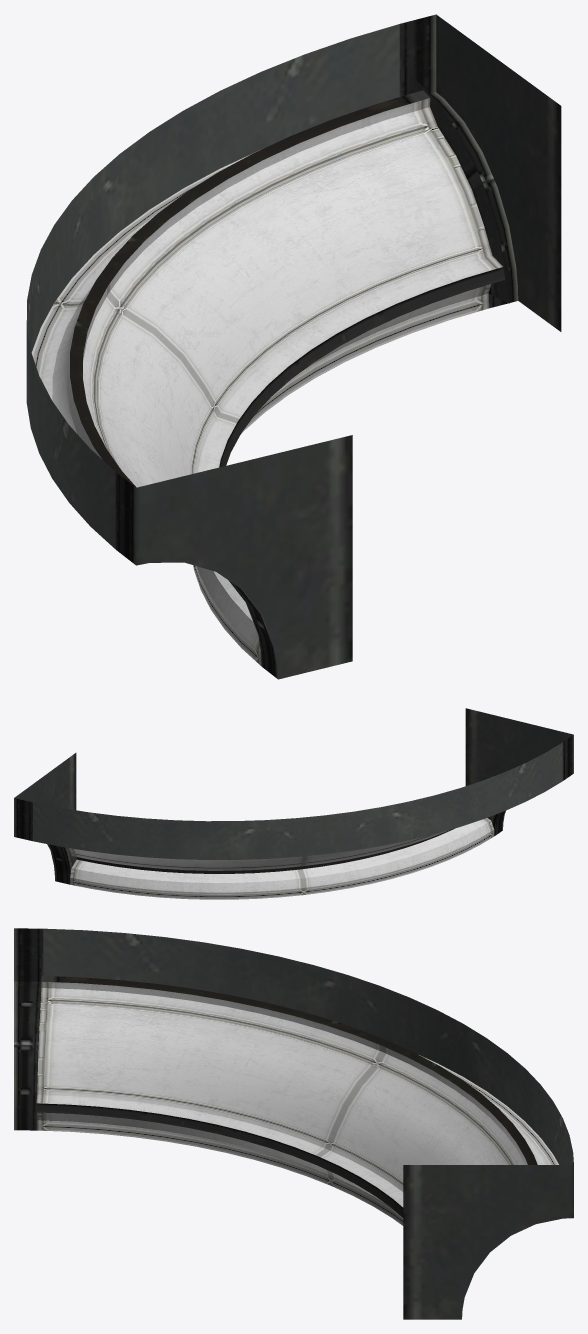
File: Neon_Wall_6x4_Bend_Out_Top.FBX
3 views of the same model, one above another, from view 1: azimuth 30°, elevation 25°; view 2: azimuth 150°, elevation 25°; view 3: azimuth 270°, elevation 25° (orthographic). The views are drawn at different scales.
Visible parts, largest first — view 1: Neon_Wall_6x4_Bend_Out_Top; view 2: Neon_Wall_6x4_Bend_Out_Top; view 3: Neon_Wall_6x4_Bend_Out_Top.
Boxes of the visible parts, x1,y1,x2,y2 form: Neon_Wall_6x4_Bend_Out_Top: (26, 14, 561, 679); Neon_Wall_6x4_Bend_Out_Top: (14, 708, 573, 899); Neon_Wall_6x4_Bend_Out_Top: (14, 928, 573, 1319).
Bounding box in the file's own units: 4.77 × 1.45 × 4.77.
